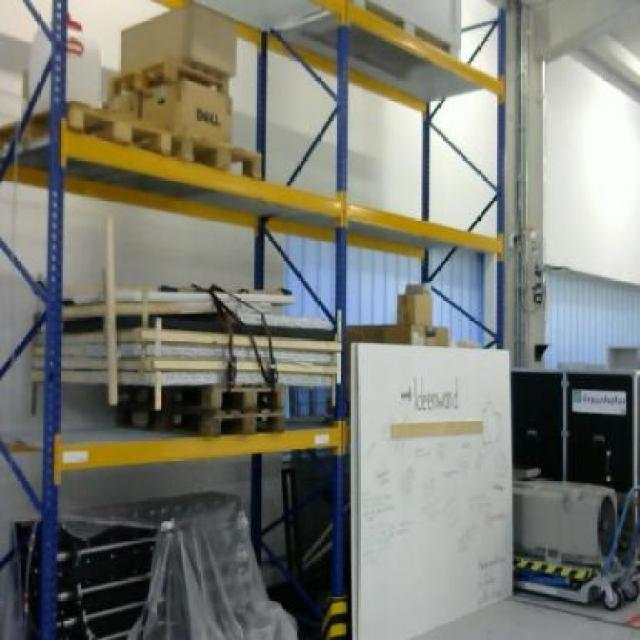box: (116, 1, 238, 74), (140, 77, 234, 143), (396, 290, 436, 326)
